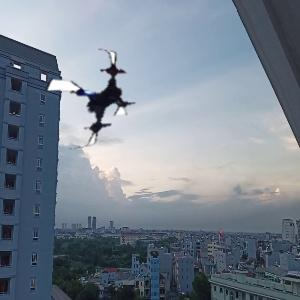drone: (37, 46, 144, 153)
